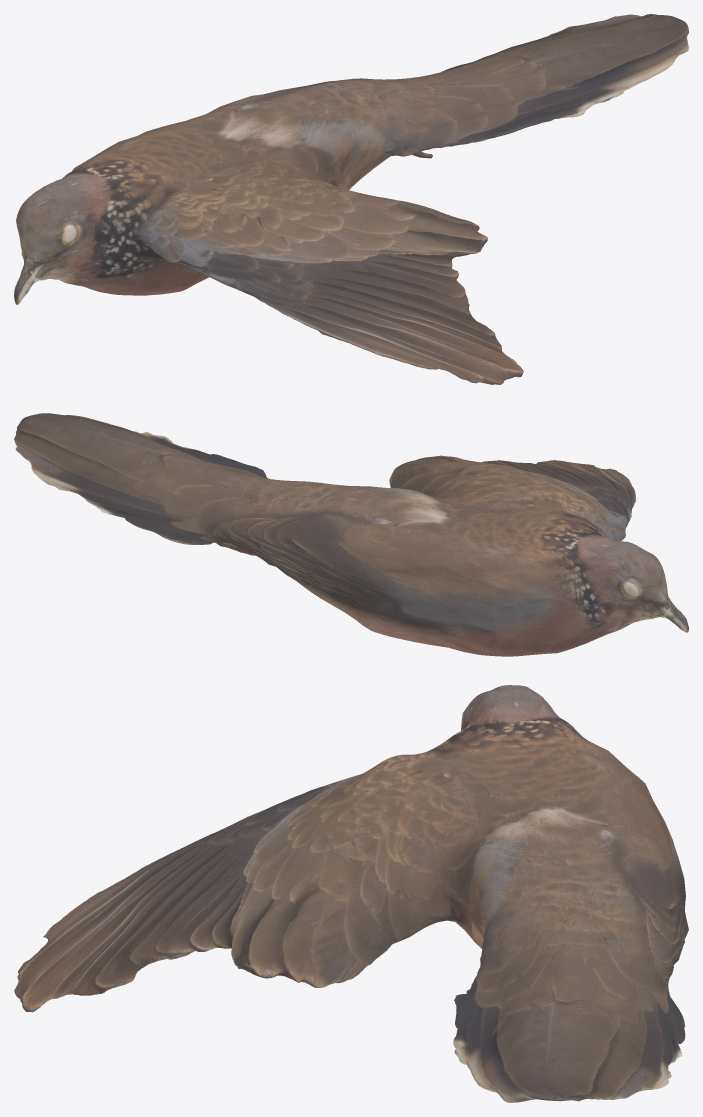
File: spilopelia_chinensis.glb
3 views of the same model, one above another, from view 1: azimuth 30°, elevation 25°; view 2: azimuth 150°, elevation 25°; view 3: azimuth 270°, elevation 25° (orthographic). The views are drawn at different scales.
Visible parts, largest first — view 1: Object_2; view 2: Object_2; view 3: Object_2.
Boxes of the visible parts, <box> form: Object_2: <box>14,14,688,384</box>; Object_2: <box>14,413,688,656</box>; Object_2: <box>14,685,688,1102</box>.
Size of the model in its own units: 0.6861 by 0.1221 by 0.4452.
Materials: 1 (1 with a texture image).
